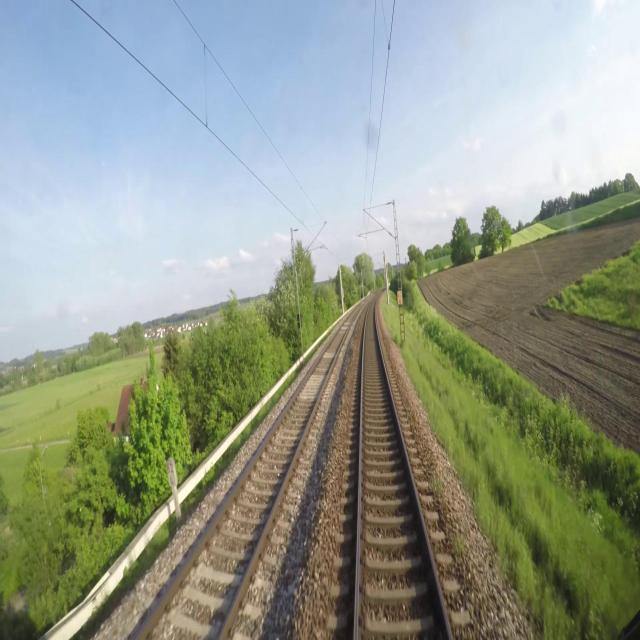rail-track: (137, 303, 362, 639), (358, 295, 448, 639)
